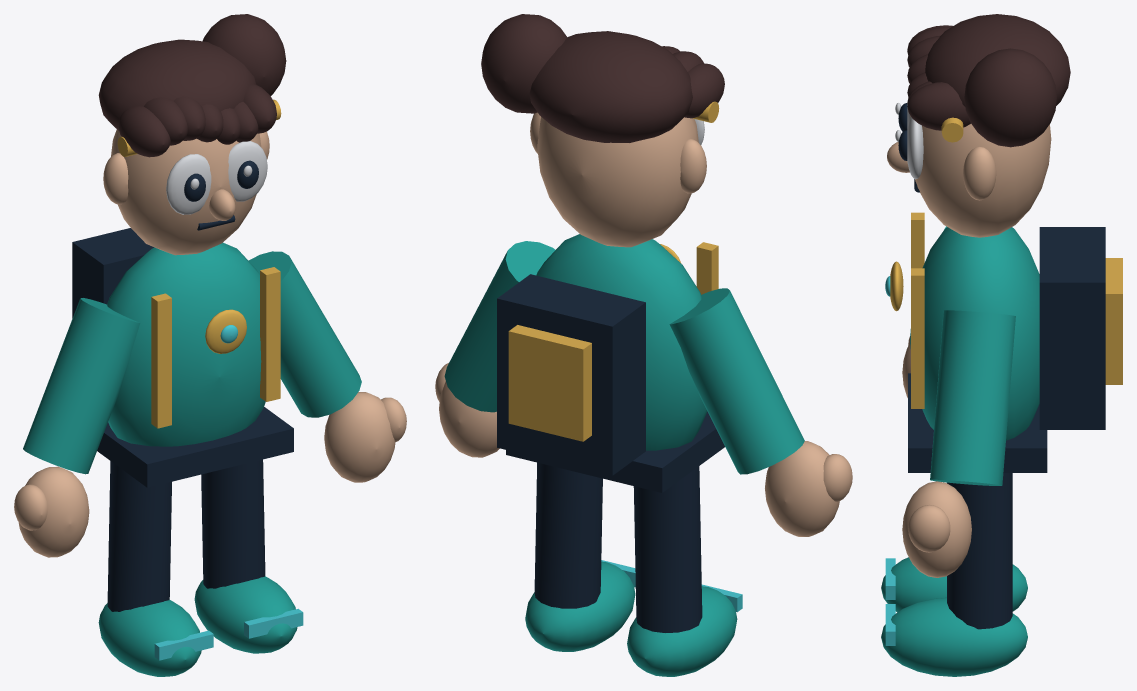
File: rin.glb
The picture shows the model from 3 angles, left to right: view 1: azimuth 30°, elevation 25°; view 2: azimuth 150°, elevation 25°; view 3: azimuth 270°, elevation 25°; orthographic projection. The views are drawn at different scales.
Visible parts, largest first — view 1: Body, Head, HandR, HandL; view 2: Body, Head, HandL, HandR; view 3: Body, Head, HandR.
Part boxes in pixels (box(x1,y1,x2,y2)): Body: box(23, 228, 361, 676); Head: box(98, 14, 286, 255); HandR: box(324, 392, 406, 482); HandL: box(14, 466, 89, 557); Body: box(444, 234, 804, 676); Head: box(481, 14, 724, 247); HandL: box(765, 441, 852, 536); HandR: box(435, 363, 499, 457); Body: box(881, 212, 1122, 676); Head: box(887, 14, 1070, 237); HandR: box(902, 481, 971, 577).
Bounding box in the file's own units: 1.21 × 1.8 × 0.625.
